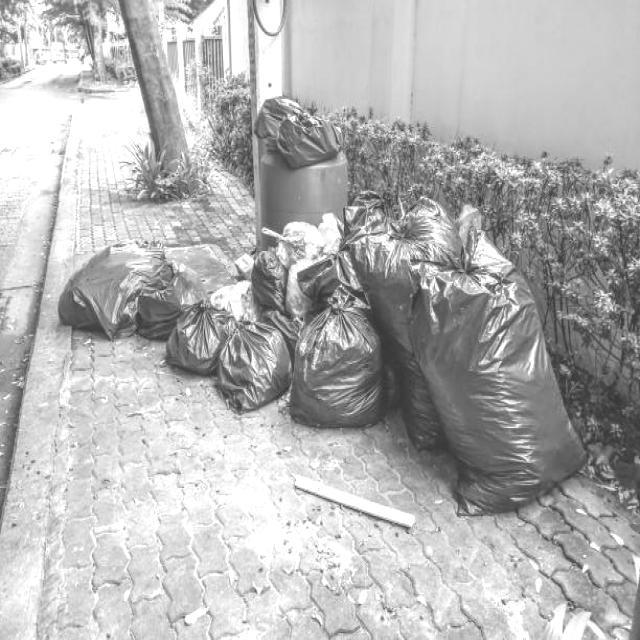high trash: (59, 200, 585, 514)
